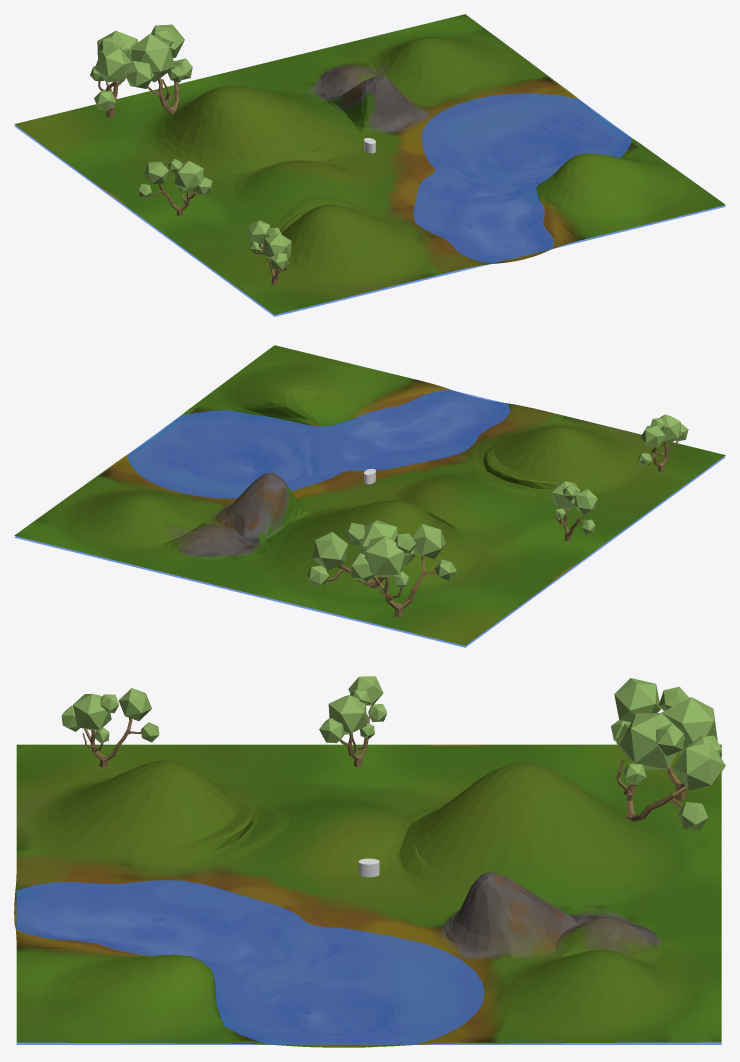
Rendered from World_poly.glb.
3 views of the same model, one above another, from view 1: azimuth 30°, elevation 25°; view 2: azimuth 150°, elevation 25°; view 3: azimuth 270°, elevation 25° (orthographic). The views are drawn at different scales.
Visible parts, largest first — view 1: Grid, Plane, Tree_lp_11.002, Tree_lp_11.003, Tree_lp_11.001, Tree_lp_11; view 2: Grid, Plane, Tree_lp_11.003, Tree_lp_11.002, Tree_lp_11.001, Tree_lp_11; view 3: Grid, Plane, Tree_lp_11.002, Tree_lp_11.003, Tree_lp_11, Tree_lp_11.001.
Part boxes in pixels (left/top/right/bottom): Grid: left=14, top=14, right=725, bottom=314; Plane: left=14, top=93, right=725, bottom=316; Tree_lp_11.002: left=126, top=24, right=192, bottom=114; Tree_lp_11.003: left=90, top=30, right=138, bottom=117; Tree_lp_11.001: left=137, top=159, right=212, bottom=215; Tree_lp_11: left=248, top=220, right=291, bottom=284; Grid: left=14, top=345, right=725, bottom=645; Plane: left=14, top=389, right=725, bottom=647; Tree_lp_11.003: left=350, top=524, right=456, bottom=616; Tree_lp_11.002: left=307, top=520, right=415, bottom=588; Tree_lp_11.001: left=552, top=481, right=597, bottom=541; Tree_lp_11: left=638, top=414, right=688, bottom=472; Grid: left=14, top=744, right=721, bottom=1047; Plane: left=16, top=880, right=721, bottom=1044; Tree_lp_11.002: left=616, top=713, right=725, bottom=830; Tree_lp_11.003: left=611, top=678, right=721, bottom=801; Tree_lp_11: left=61, top=688, right=159, bottom=767; Tree_lp_11.001: left=319, top=676, right=386, bottom=767.
Bounding box in the file's own units: 50.37 × 11.05 × 50.51.
Materials: 22 (1 with a texture image).
